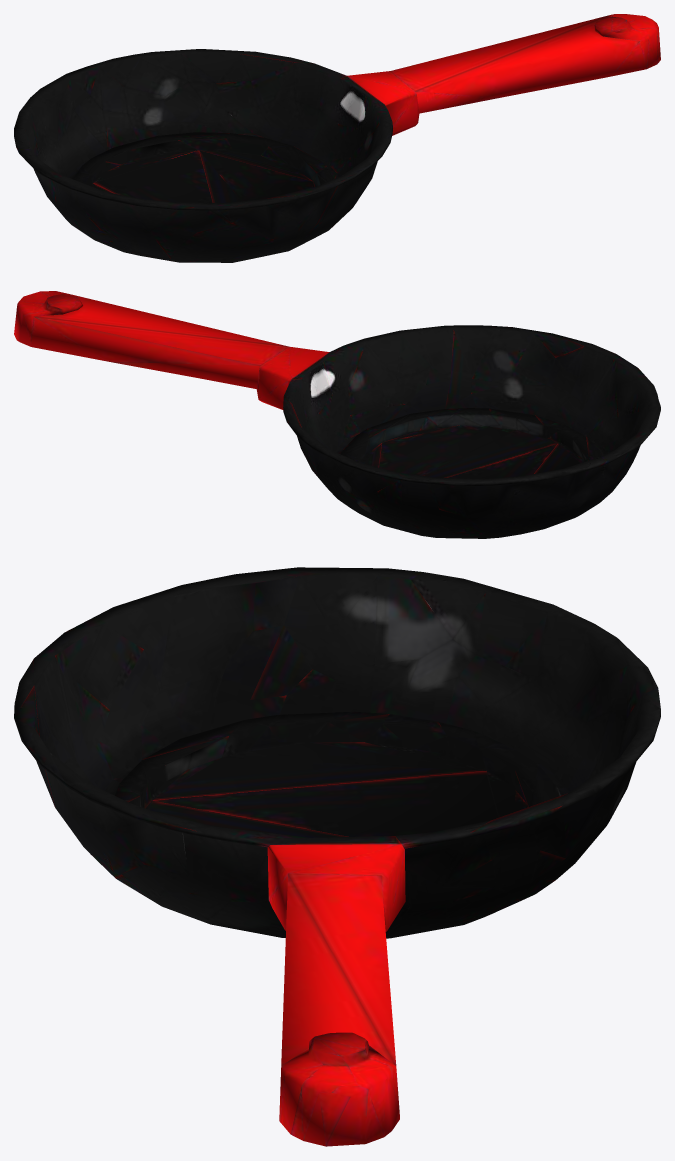
The model's file is pan.glb.
3 views of the same model, one above another, from view 1: azimuth 30°, elevation 25°; view 2: azimuth 150°, elevation 25°; view 3: azimuth 270°, elevation 25° (orthographic). The views are drawn at different scales.
Bounding box in the file's own units: 1.91 × 0.2648 × 0.9997.
Materials: 1 (1 with a texture image).
